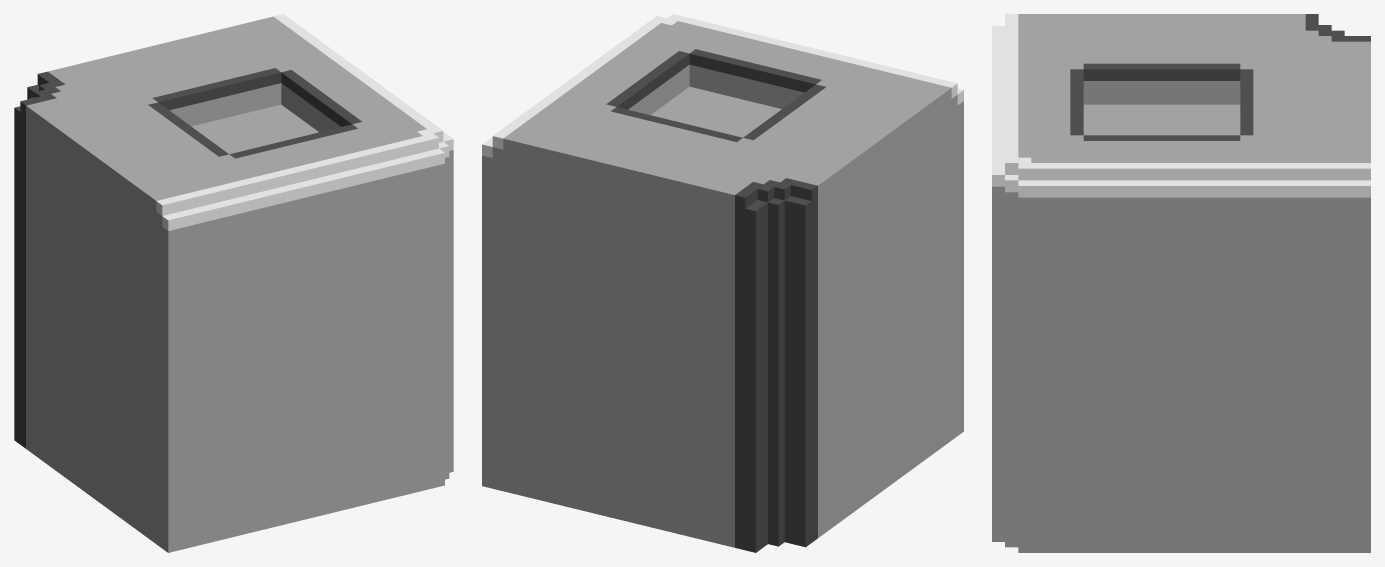
Rendered from CornerSE.obj.
3 renders of one model, left to right at view 1: azimuth 30°, elevation 25°; view 2: azimuth 150°, elevation 25°; view 3: azimuth 270°, elevation 25°, orthographic. The views are drawn at different scales.
Size of the model in its own units: 29 by 32 by 29.
1 material, 1 textured.
